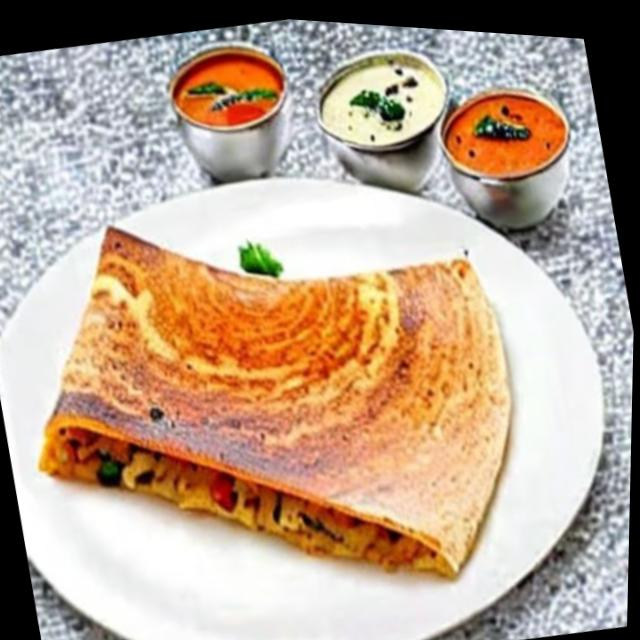DOSA: (40, 227, 512, 572)
RED CHUTNEY: (446, 96, 564, 176)
SAMBAR: (181, 57, 278, 125)
WHITE CHUTNEY: (325, 67, 438, 141)
